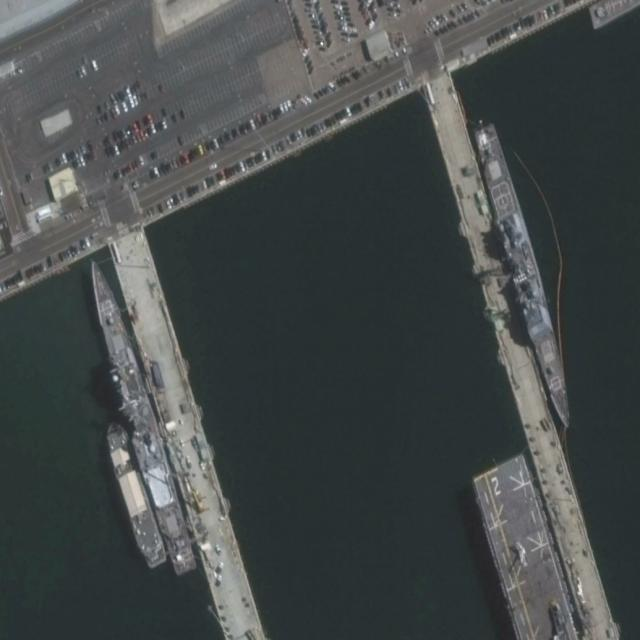Cruiser: (82, 251, 200, 581), (469, 119, 584, 436)
Other Ship: (101, 415, 168, 573)
